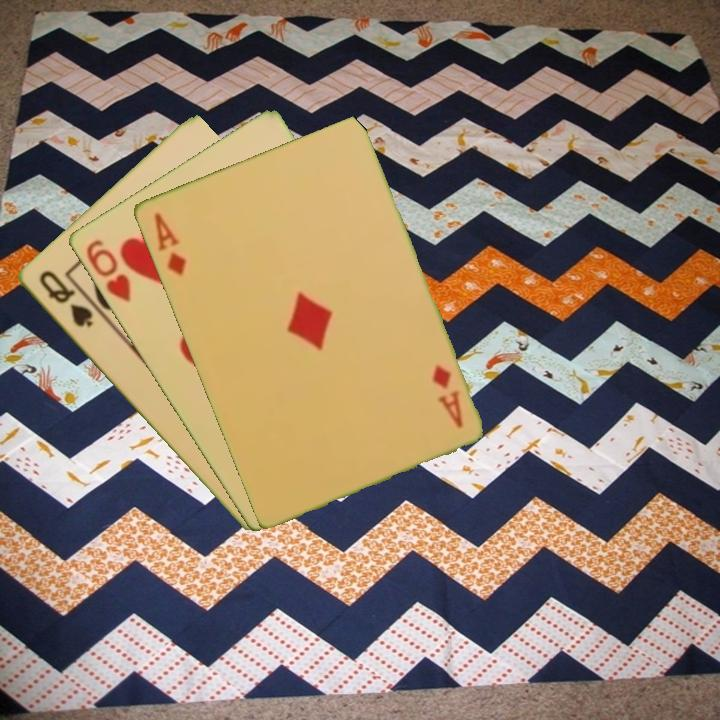6h: (82, 236, 133, 305)
Ad: (150, 208, 189, 278), (428, 360, 465, 432)
Qs: (34, 267, 96, 330)
